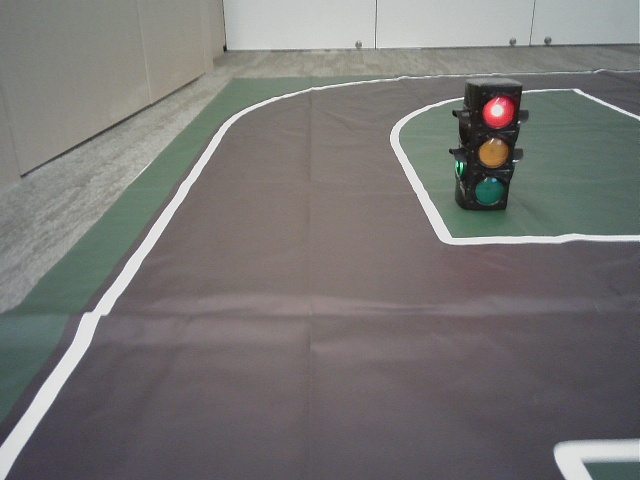red: (475, 90, 512, 207)
